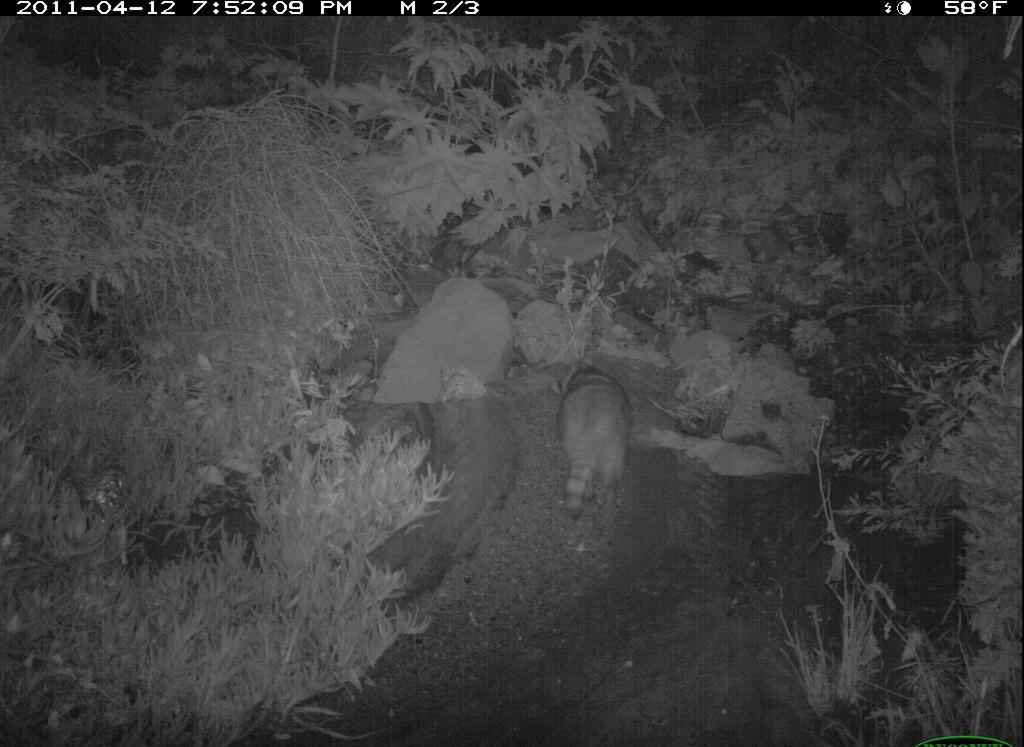raccoon: (529, 354, 653, 515)
